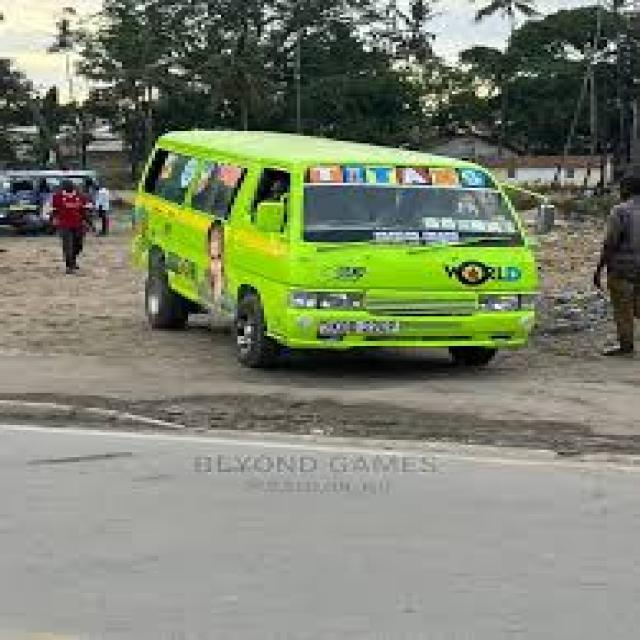matatu: (116, 82, 592, 397)
